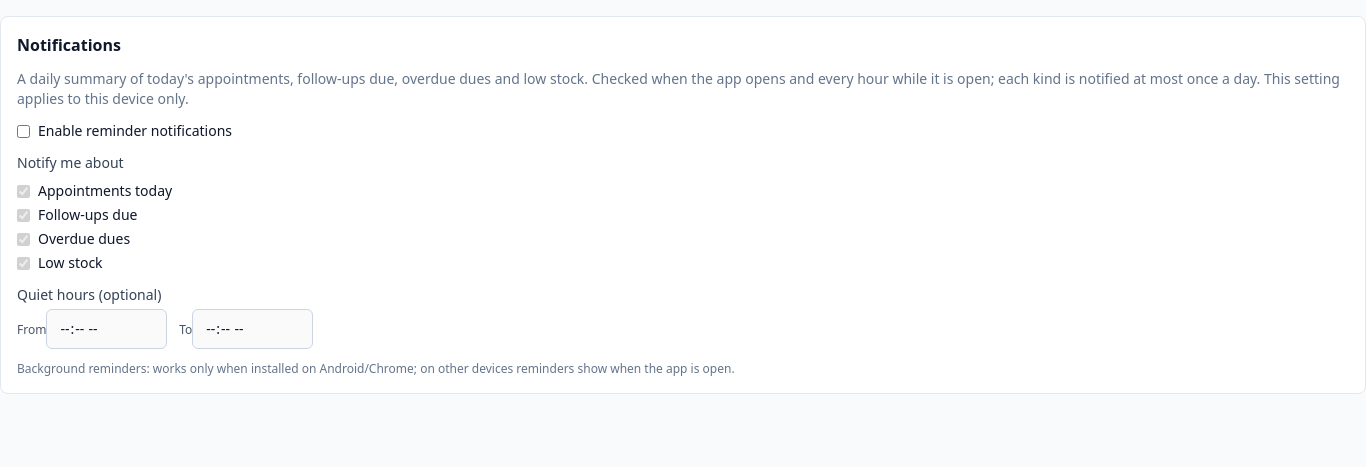
Test: notification settings › stays off when the user dismisses the prompt
Click the checkbox labelled "Enable reminder notifications" at (24, 131), box [17,124,30,138]
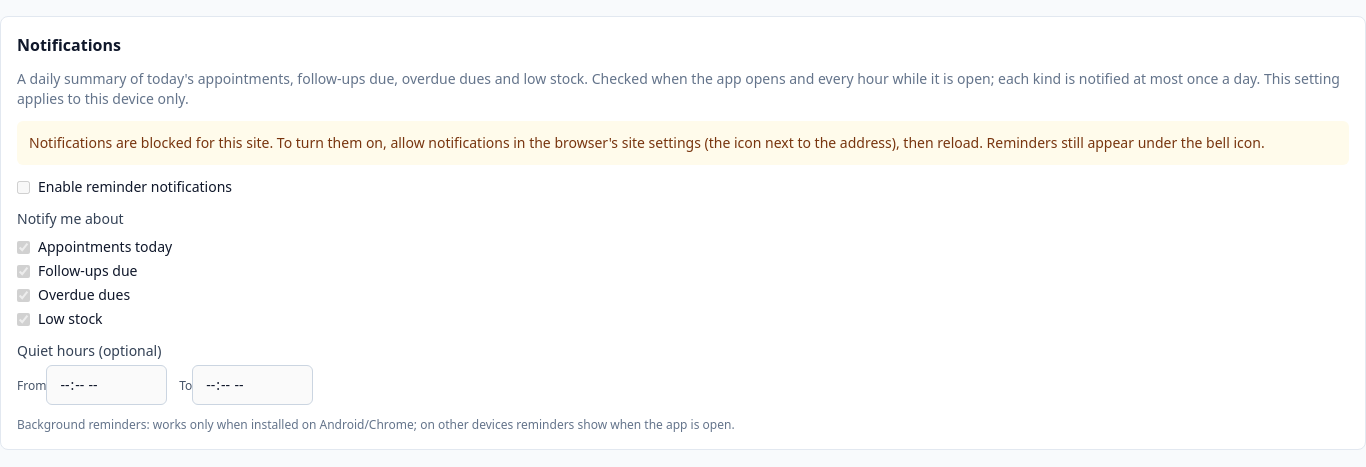
Check: the text with test id "notify-denied" is shown, box [17,121,1349,165]
